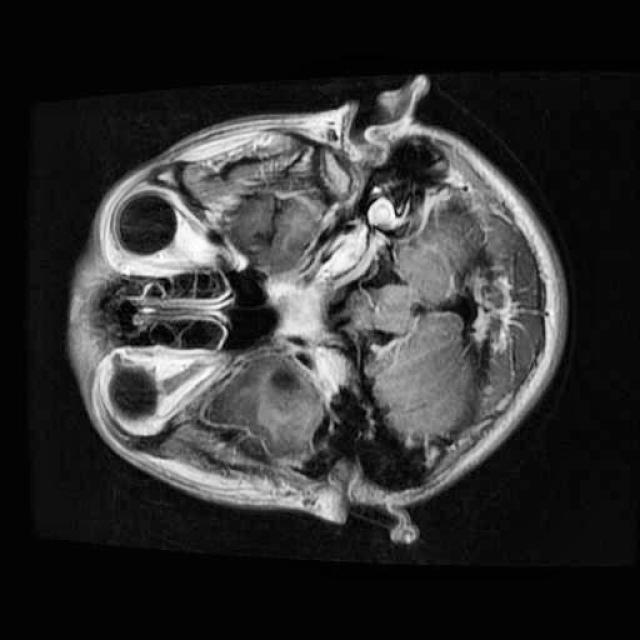Non-Tumor: (256, 354, 311, 414)
